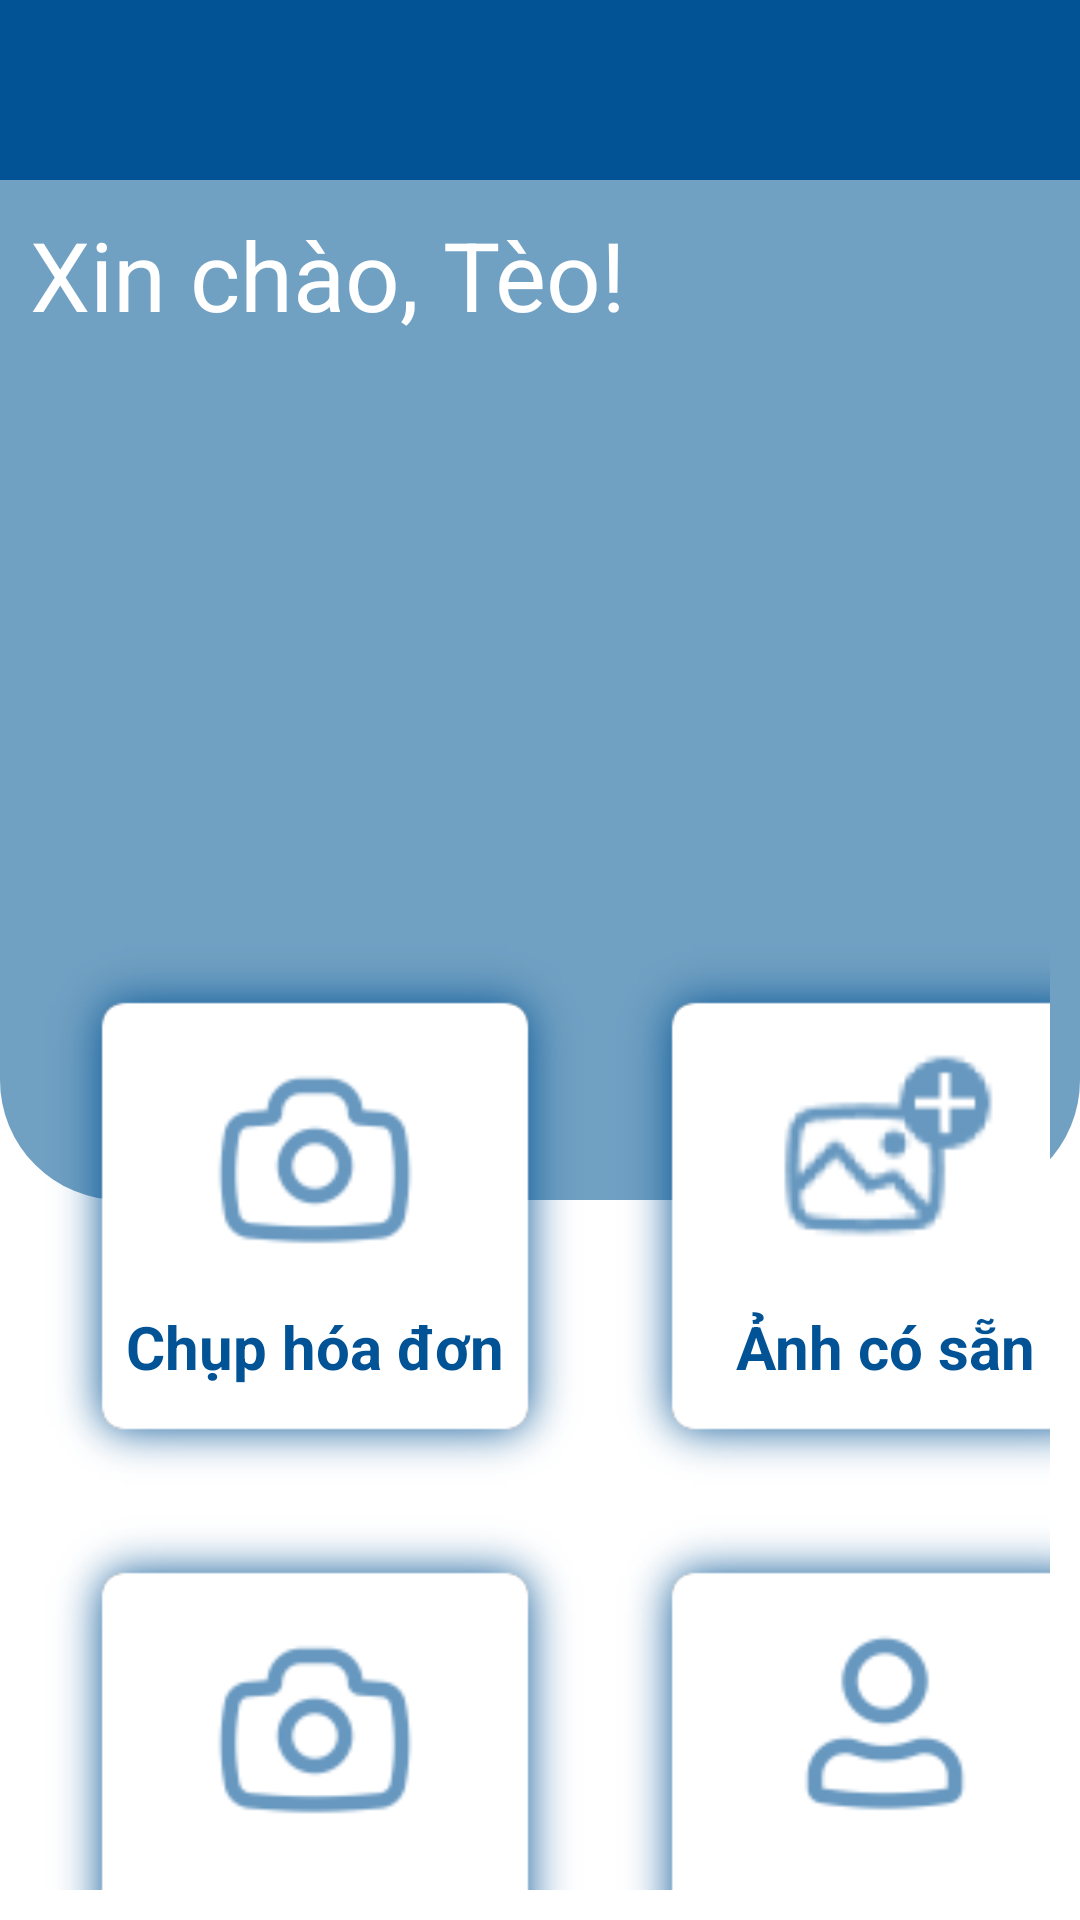

Icons on this 1080x1920 Android screen, each with the point to tap as point (x, y):
add: point (888, 1145)
camera: point (315, 1160), point (315, 1730)
user: point (885, 1723)
